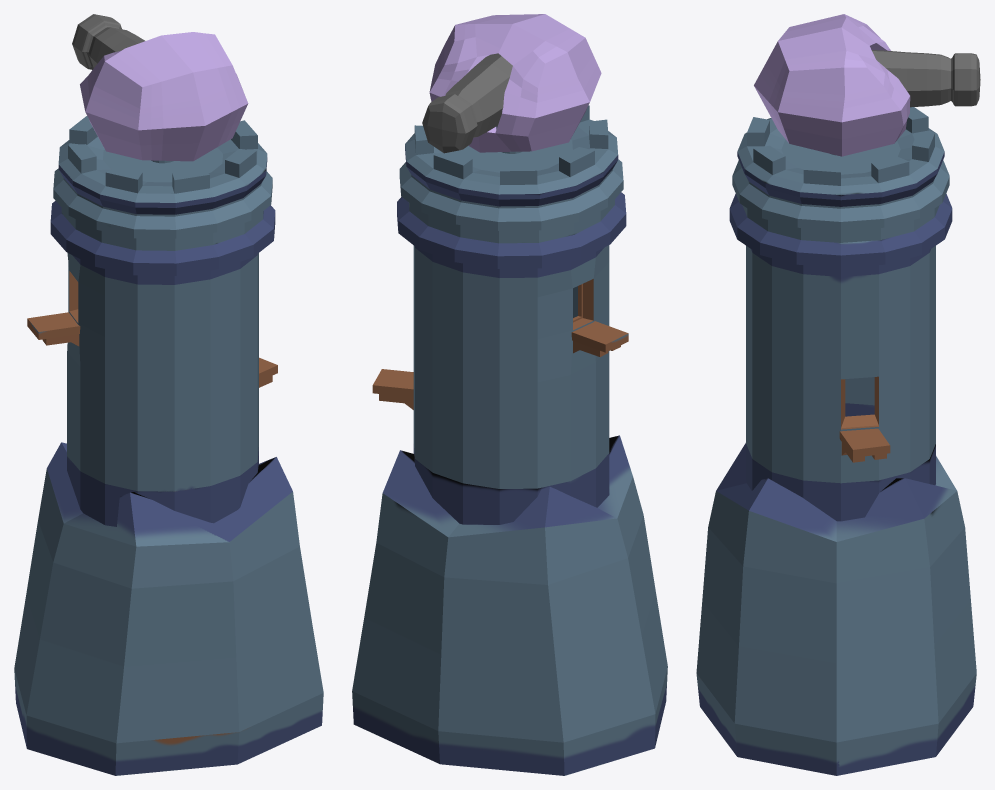
File: Tower 3.fbx
3 renders of one model, left to right at view 1: azimuth 30°, elevation 25°; view 2: azimuth 150°, elevation 25°; view 3: azimuth 270°, elevation 25°, orthographic. The views are drawn at different scales.
Parts seen in each view (by area): view 1: Cube.002, Cube.018; view 2: Cube.002, Cube.018; view 3: Cube.002, Cube.018.
Boxes of the visible parts, <box> form: Cube.002: <box>14,116,323,775</box>; Cube.018: <box>72,14,248,161</box>; Cube.002: <box>352,105,667,775</box>; Cube.018: <box>422,14,601,153</box>; Cube.002: <box>696,107,976,775</box>; Cube.018: <box>754,14,980,156</box>.
Bounding box in the file's own units: 3.96 × 9.11 × 3.42.
